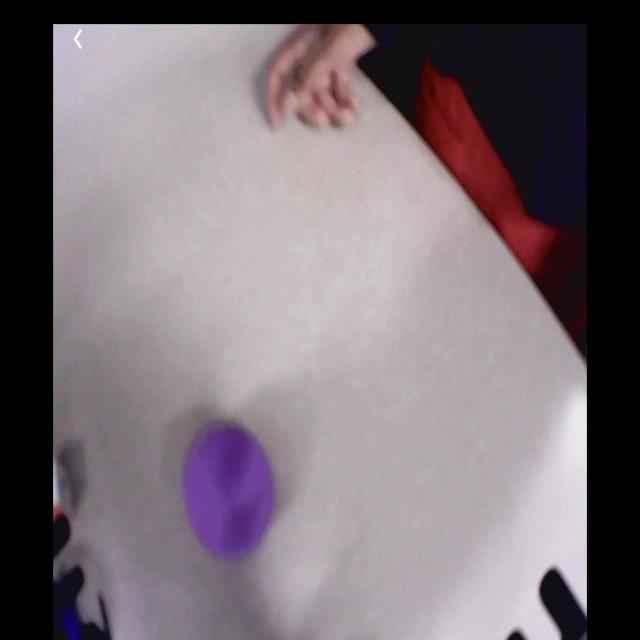ball: (184, 421, 272, 560)
